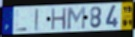4: (105, 5, 120, 30)
8: (90, 6, 102, 29)
H: (51, 7, 68, 32)
I: (34, 8, 39, 32)
L: (15, 9, 28, 32)
M: (66, 6, 86, 31)
